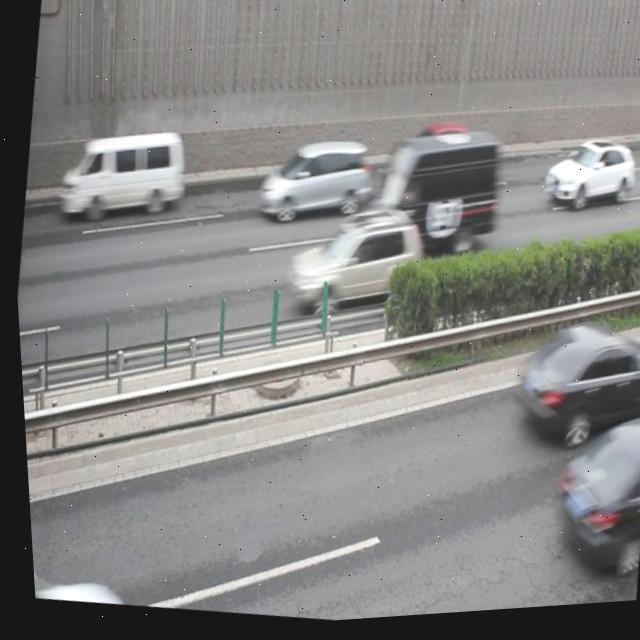car: (358, 123, 506, 265), (501, 314, 640, 463), (277, 198, 427, 328), (537, 413, 640, 587), (535, 138, 635, 223), (395, 122, 482, 200), (26, 558, 125, 611)
truck: (55, 118, 190, 232), (250, 132, 375, 235)
